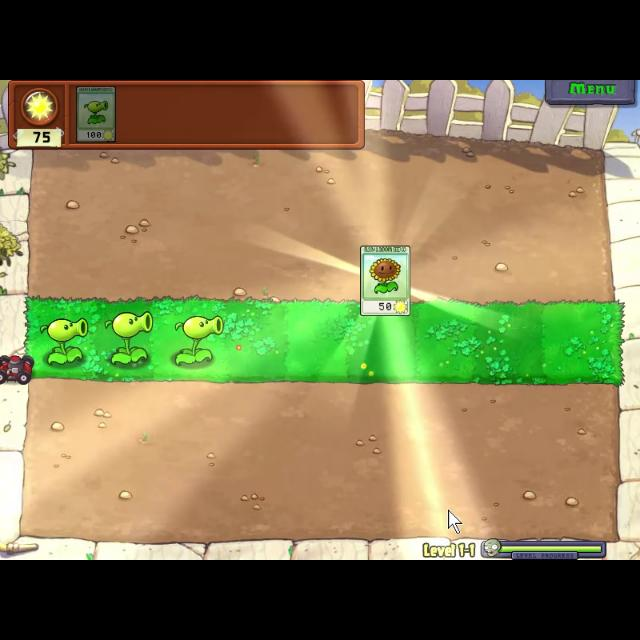Garden: (20, 292, 630, 388)
Menu Button: (542, 80, 640, 106)
Mower: (0, 349, 36, 386)
Peashooter: (73, 84, 117, 142)
Peashooter Seed: (170, 308, 228, 374), (36, 310, 94, 368), (103, 308, 153, 366)
Seed Panel: (4, 80, 370, 152)
